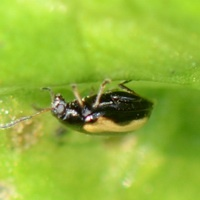insect: (0, 80, 152, 133)
